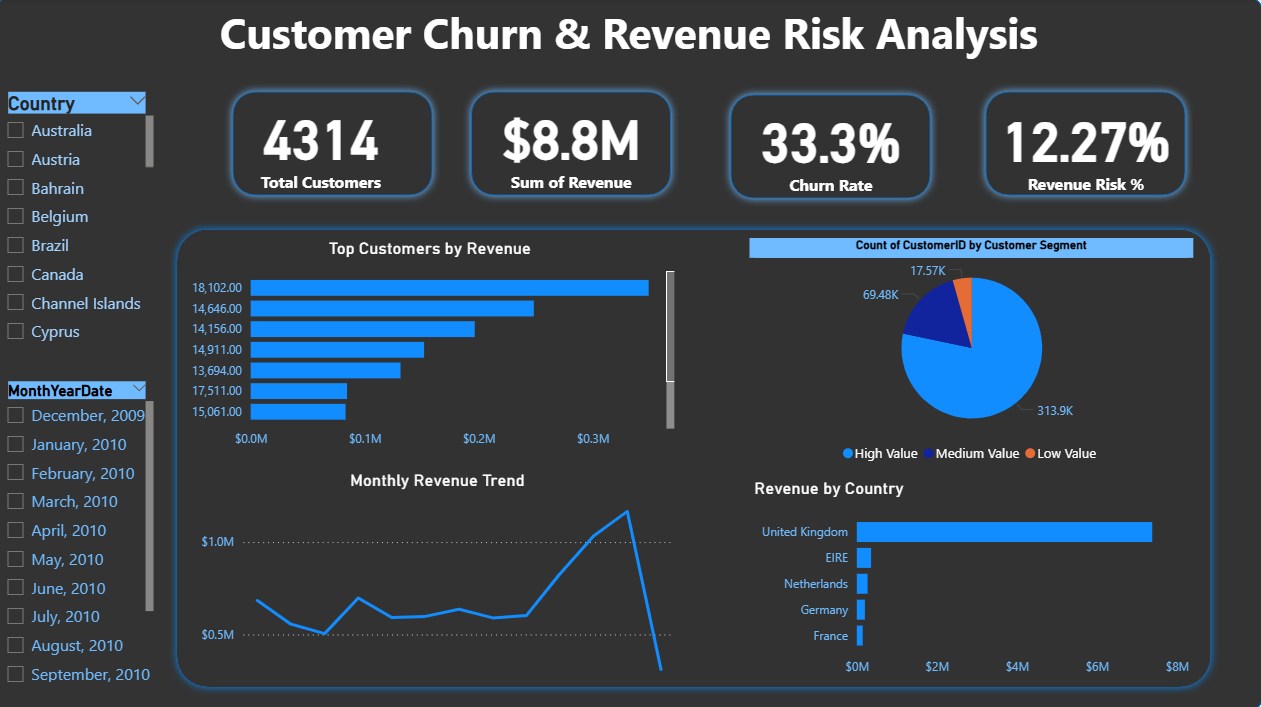

What the dashboard file says about the page in this screenshot:
{"tool":"powerbi","page":{"name":"Page 1","canvas":[1280,720],"ordinal":0},"visuals":[{"type":"shape","box":[0,0,1279.5,719.2],"z":0},{"type":"textbox","box":[0,0,1280,76.7],"z":1000},{"type":"slicer","fields":{"Values":["public transactions.Country"]},"box":[0,89.1,165.1,271.8],"z":2000},{"type":"slicer","fields":{"Values":["public transactions.MonthYearDate"]},"box":[0,381.4,165.1,312.8],"z":3000},{"type":"group","id":"g1","title":"Group 1","box":[231.7,86.3,978.2,124.2],"z":4000},{"type":"card","fields":{"Values":["transactions.Total Customers"]},"box":[219.6,86.3,218,121.1],"z":5000},{"type":"shape","box":[231.7,86.3,218,121.1],"z":5937,"group":"g1"},{"type":"card","fields":{"Values":["Sum(transactions.Revenue)"]},"box":[472.4,86.3,218,121.1],"z":6000},{"type":"shape","box":[472,86.3,218,121.1],"z":6437,"group":"g1"},{"type":"shape","box":[734.2,89,218,121.1],"z":6937,"group":"g1"},{"type":"card","fields":{"Values":["transactions.Churn Rate"]},"box":[734.4,89.3,218,121.1],"z":7000},{"type":"shape","box":[991.3,86.3,218,121.1],"z":7437,"group":"g1"},{"type":"card","fields":{"Values":["transactions.Revenue Risk %"]},"box":[991.8,87.8,218,121.1],"z":8000},{"type":"shape","box":[175.4,225.1,1059.6,477.9],"z":9000},{"type":"pieChart","fields":{"Category":["transactions.Customer Segment"],"Y":["CountNonNull(transactions.CustomerID)"]},"box":[761.6,242.3,448.2,236.2],"z":10000},{"type":"clusteredBarChart","title":"Top Customers by Revenue","fields":{"Category":["transactions.CustomerID"],"Y":["Sum(transactions.Revenue)"]},"box":[187.8,242.3,502.7,221.1],"z":11000},{"type":"clusteredBarChart","title":"Revenue by Country","fields":{"Category":["transactions.Country"],"Y":["Sum(transactions.Revenue)"]},"box":[761.6,484.5,448.2,209],"z":12000},{"type":"lineChart","title":"Monthly Revenue Trend","fields":{"Y":["Sum(transactions.Revenue)"],"Category":["transactions.MonthYearDate"]},"box":[202.9,477,487.6,227.1],"z":13000}]}

Visuals, with their boxes in screenshot pixels (x1, y1, x2, y2), scaled from the page's 1280x720 canvas onto the 1261x707 screenshot:
shape: x1=0 y1=0 x2=1260 y2=706
textbox: x1=0 y1=0 x2=1260 y2=75
slicer - public transactions.Country: x1=0 y1=87 x2=163 y2=354
slicer - public transactions.MonthYearDate: x1=0 y1=375 x2=163 y2=682
"Group 1" group: x1=228 y1=85 x2=1192 y2=207
card - transactions.Total Customers: x1=216 y1=85 x2=431 y2=204
shape: x1=228 y1=85 x2=443 y2=204
card - Sum(transactions.Revenue): x1=465 y1=85 x2=680 y2=204
shape: x1=465 y1=85 x2=680 y2=204
shape: x1=723 y1=87 x2=938 y2=206
card - transactions.Churn Rate: x1=723 y1=88 x2=938 y2=207
shape: x1=977 y1=85 x2=1191 y2=204
card - transactions.Revenue Risk %: x1=977 y1=86 x2=1192 y2=205
shape: x1=173 y1=221 x2=1217 y2=690
pieChart - transactions.Customer Segment x CountNonNull(transactions.CustomerID): x1=750 y1=238 x2=1192 y2=470
"Top Customers by Revenue" clusteredBarChart: x1=185 y1=238 x2=680 y2=455
"Revenue by Country" clusteredBarChart: x1=750 y1=476 x2=1192 y2=681
"Monthly Revenue Trend" lineChart: x1=200 y1=468 x2=680 y2=691
